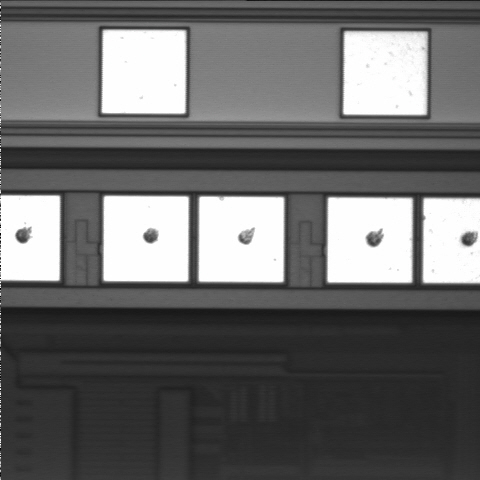pad: (104, 196, 189, 281), (199, 197, 284, 282), (328, 198, 412, 283), (102, 30, 186, 114), (343, 32, 427, 115)
